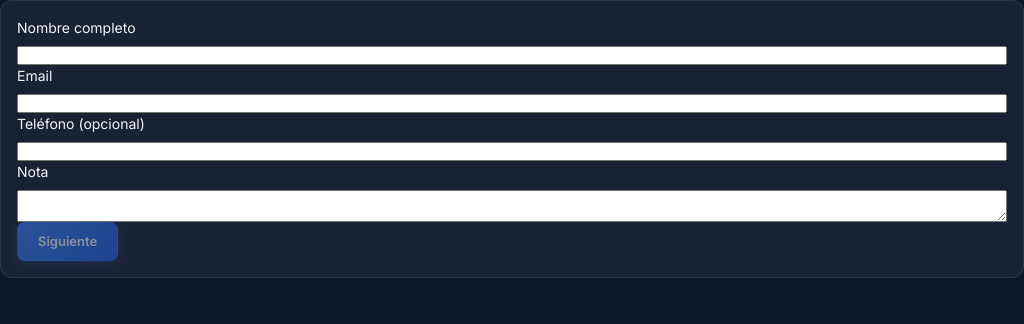
Test: US_015, US_016, US_019: Formulario de Datos del Paciente › 5. Muestra error si el nombre tiene menos de 3 caracteres
# Act — ingresamos un nombre de solo 2 caracteres
Type "Jo" into the field labelled "Nombre completo" at (512, 56), box [17,46,1007,65]
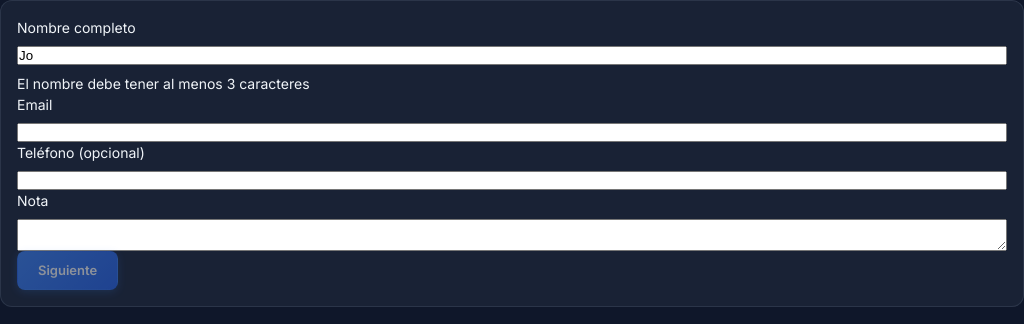
Result: the text "El nombre debe tener al menos 3 caracteres" is shown at [17,75,310,92]
